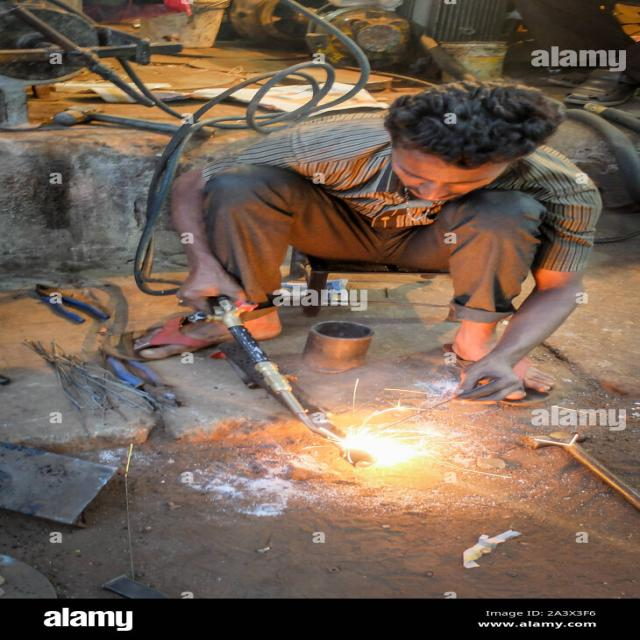fire: (333, 424, 425, 479)
